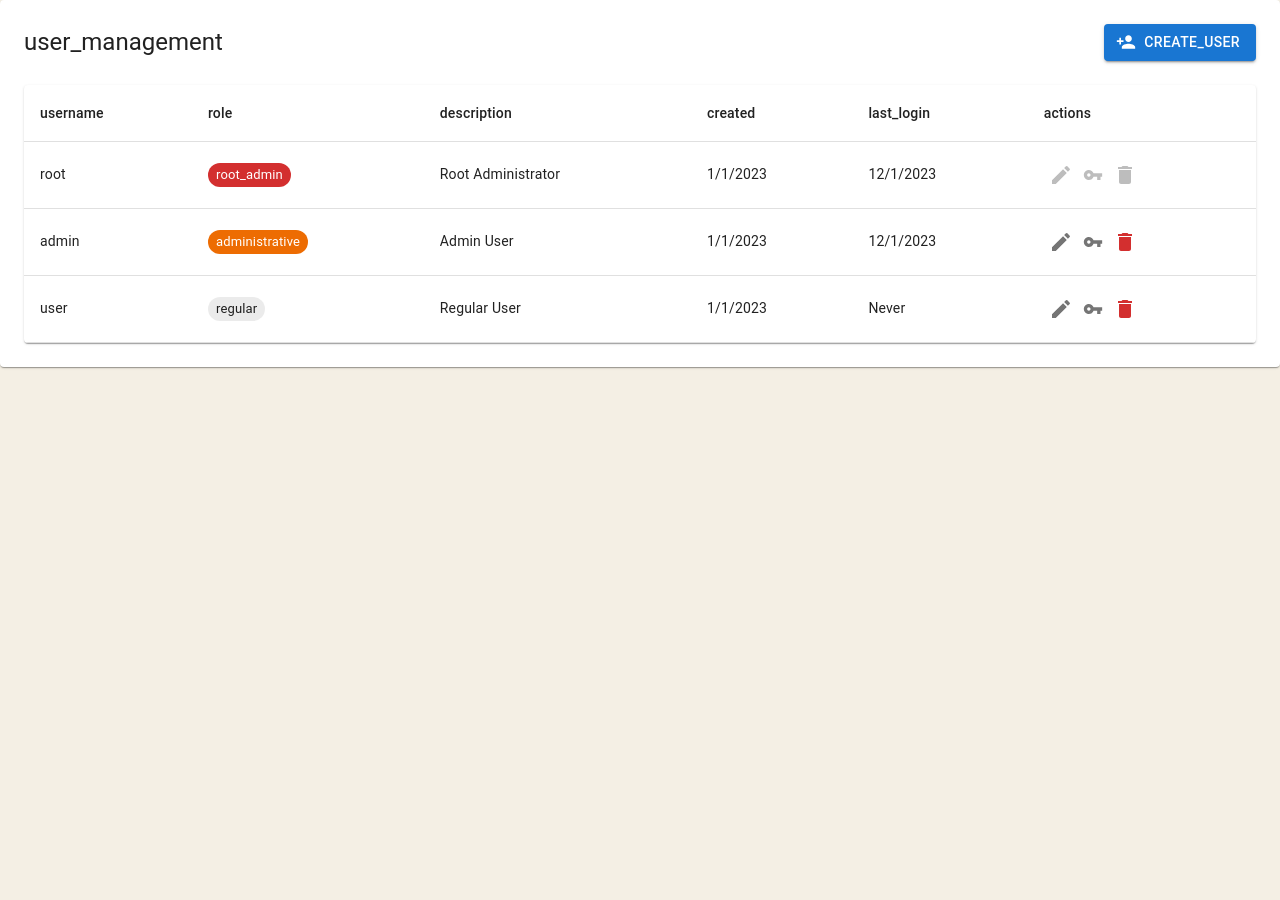
Scenario: UserManagement › should enable role dropdown when editing non-root admin user
This screenshot has width=1280, height=900.
Expected: the text "admin" is shown, 24,208 -> 192,275
# Find and click edit button for admin user (second row)
Click the button named "edit_user" in the row of "administrative" at (1061, 242), box 1044,224 -> 1078,258
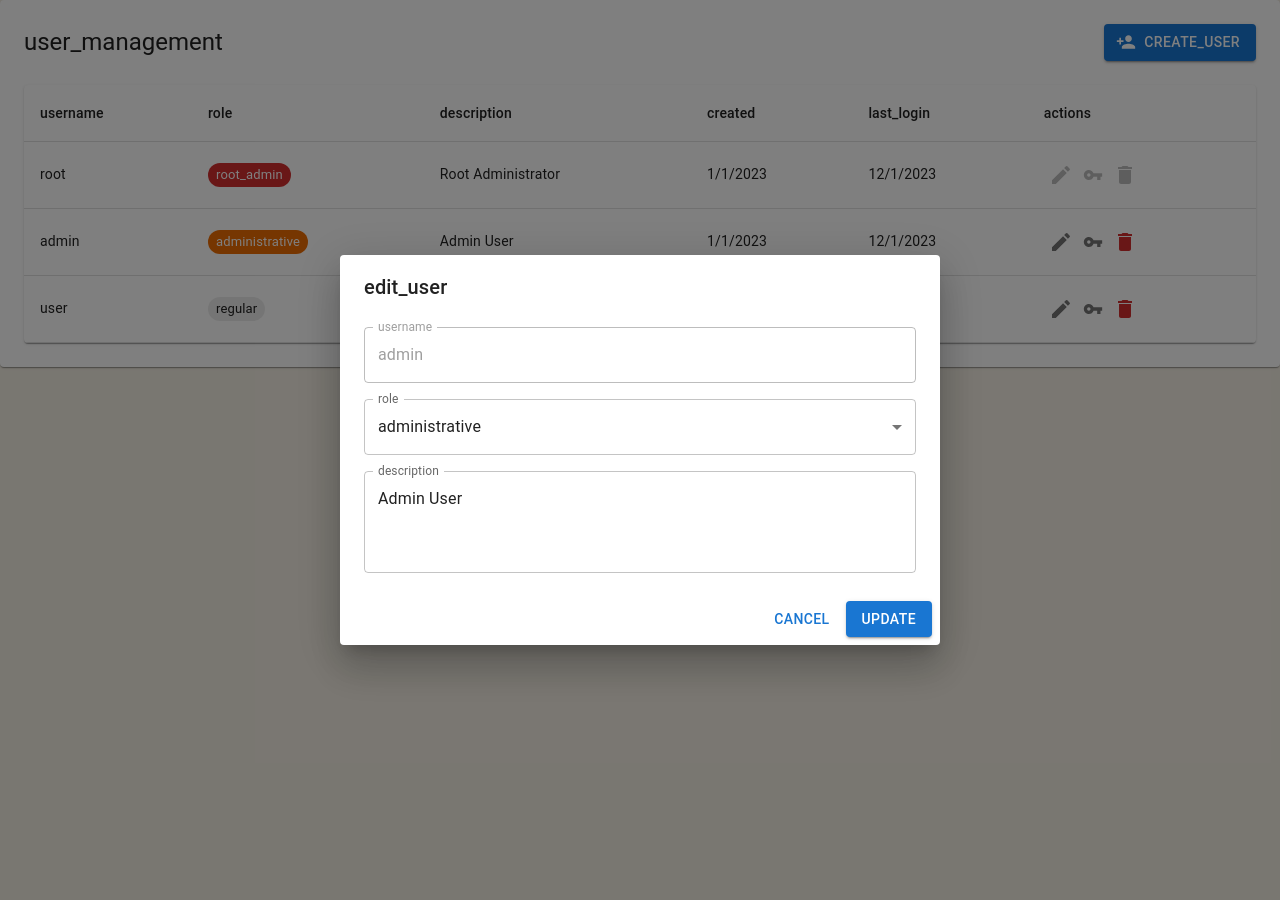
Expected: the heading "edit_user" is shown, 364,275 -> 447,299
Expected: the element showing "administrative" is enabled, 364,399 -> 916,455
